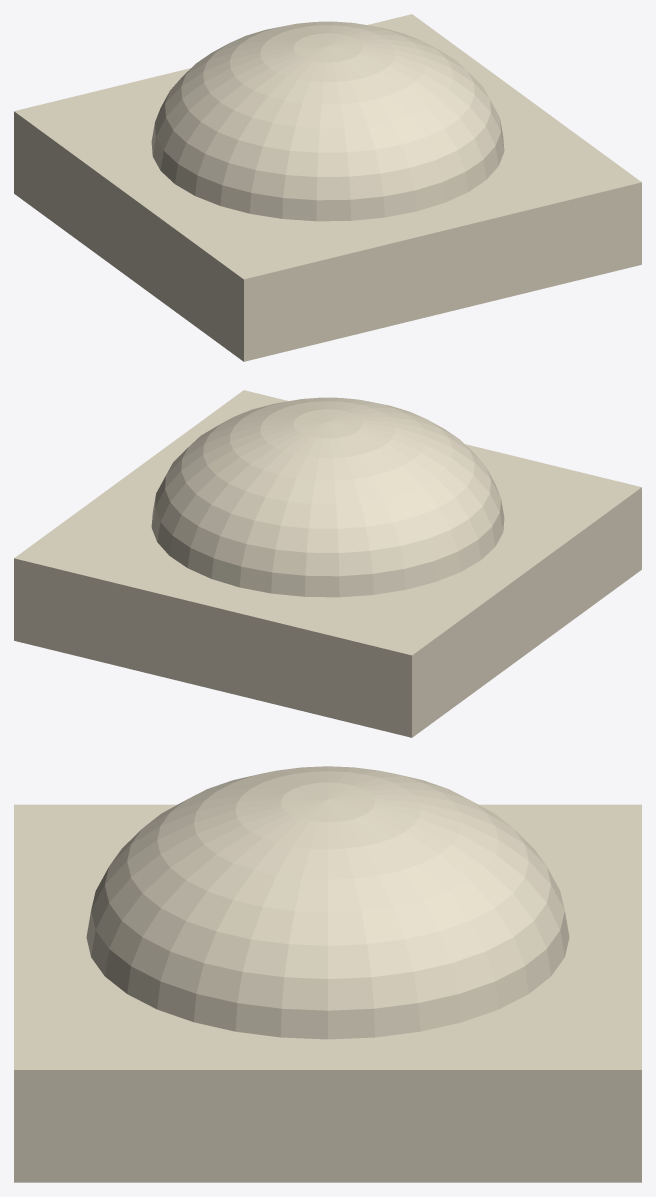
The model's file is place-brasilia.glb.
3 views of the same model, one above another, from view 1: azimuth 30°, elevation 25°; view 2: azimuth 150°, elevation 25°; view 3: azimuth 270°, elevation 25° (orthographic). The views are drawn at different scales.
Visible parts, largest first — view 1: place-brasilia; view 2: place-brasilia; view 3: place-brasilia.
Part boxes in pixels (left/top/right/bottom): place-brasilia: left=14, top=14, right=641, bottom=361; place-brasilia: left=14, top=390, right=641, bottom=737; place-brasilia: left=14, top=766, right=641, bottom=1182.
Size of the model in its own units: 91 by 40 by 91.
